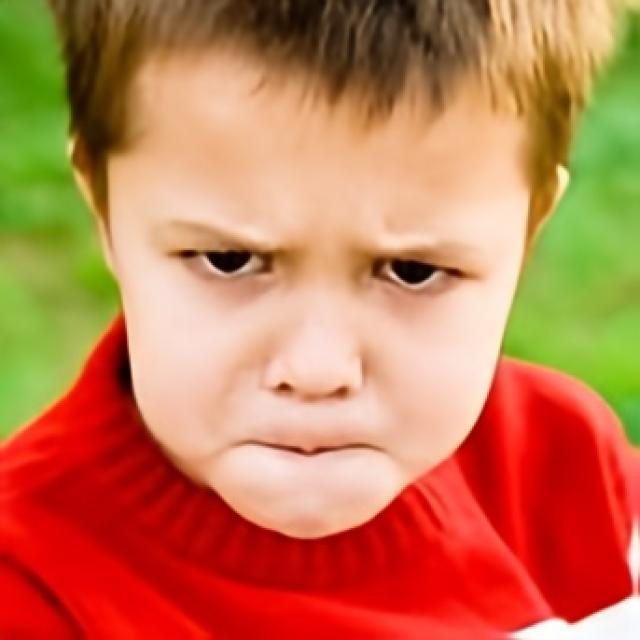anger: (121, 72, 513, 534)
